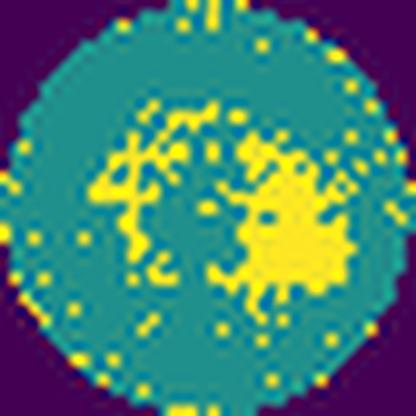Donut: (86, 91, 362, 327)
